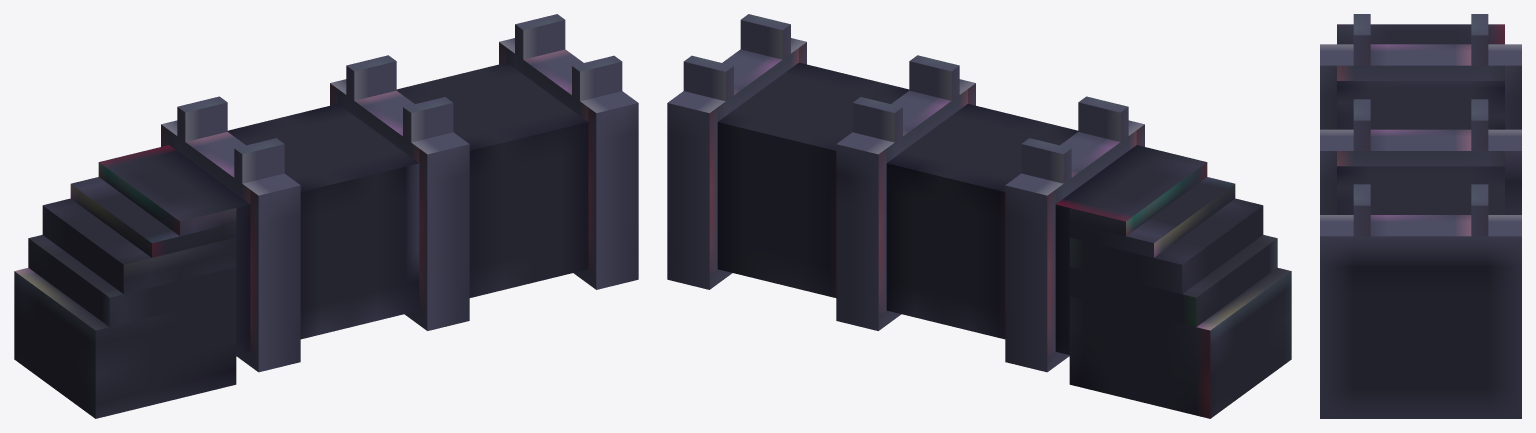
Rendered from Vent_B_00.fbx.
The picture shows the model from 3 angles, left to right: view 1: azimuth 30°, elevation 25°; view 2: azimuth 150°, elevation 25°; view 3: azimuth 270°, elevation 25°; orthographic projection. The views are drawn at different scales.
Visible parts, largest first — view 1: Vent_B_00; view 2: Vent_B_00; view 3: Vent_B_00.
Part boxes in pixels (x1,y1,x2,y2): Vent_B_00: (14,14,638,418); Vent_B_00: (667,14,1291,418); Vent_B_00: (1320,14,1521,418).
Bounding box in the file's own units: 190 × 75 × 60.
